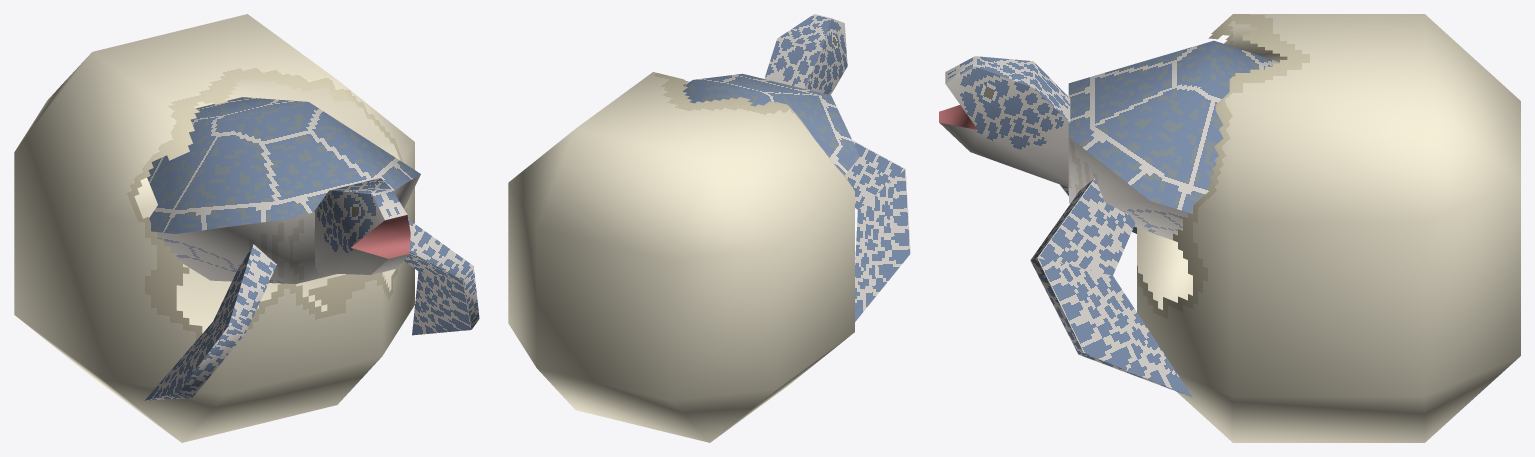
Rendered from 03ef_Baby_Turtle.glb.
The picture shows the model from 3 angles, left to right: view 1: azimuth 30°, elevation 25°; view 2: azimuth 150°, elevation 25°; view 3: azimuth 270°, elevation 25°; orthographic projection. The views are drawn at different scales.
Visible parts, largest first — view 1: part_0; view 2: part_0; view 3: part_0.
Boxes of the visible parts, left/top/right/bottom form: part_0: left=14, top=14, right=479, bottom=442; part_0: left=508, top=14, right=910, bottom=442; part_0: left=939, top=14, right=1520, bottom=442.
Size of the model in its own units: 0.375 by 0.375 by 0.5683.
Materials: 1 (1 with a texture image).
